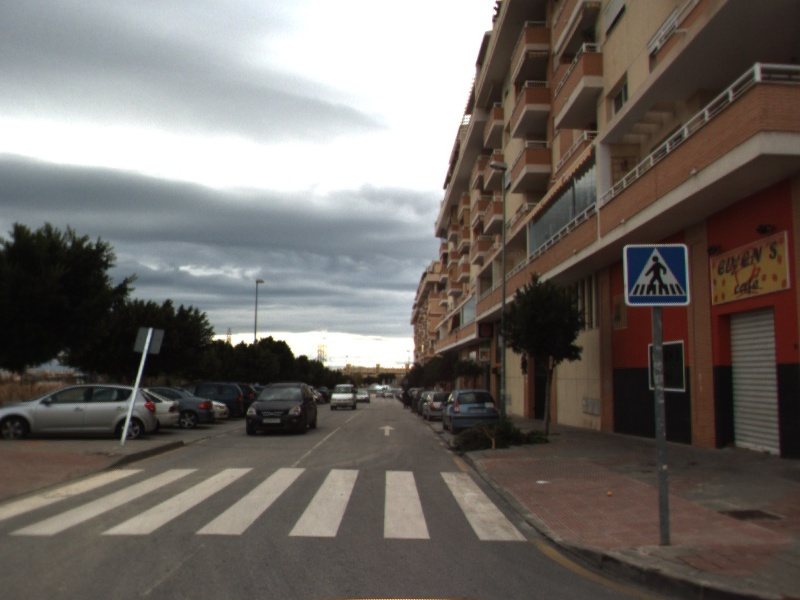STRAIGHT: (377, 423, 397, 438)
